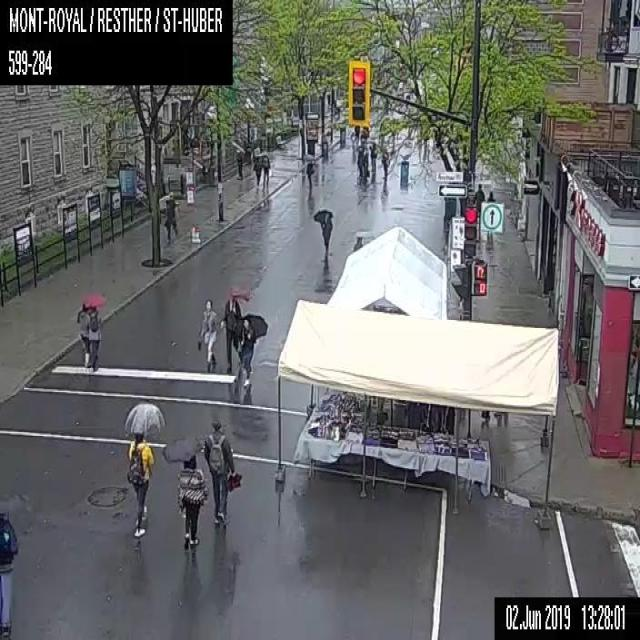pedestrian: (124, 398, 165, 536), (162, 435, 208, 550), (205, 420, 241, 524), (220, 285, 253, 372), (0, 509, 18, 639), (238, 312, 267, 390), (197, 297, 222, 372), (86, 296, 106, 372), (312, 208, 333, 262), (77, 301, 89, 371), (163, 192, 178, 243), (472, 181, 485, 229), (486, 189, 496, 241), (252, 148, 262, 185), (368, 138, 377, 174), (262, 149, 270, 183), (306, 157, 314, 188), (235, 148, 242, 178), (381, 152, 387, 185), (362, 149, 368, 180), (356, 146, 362, 176), (352, 235, 362, 249)
